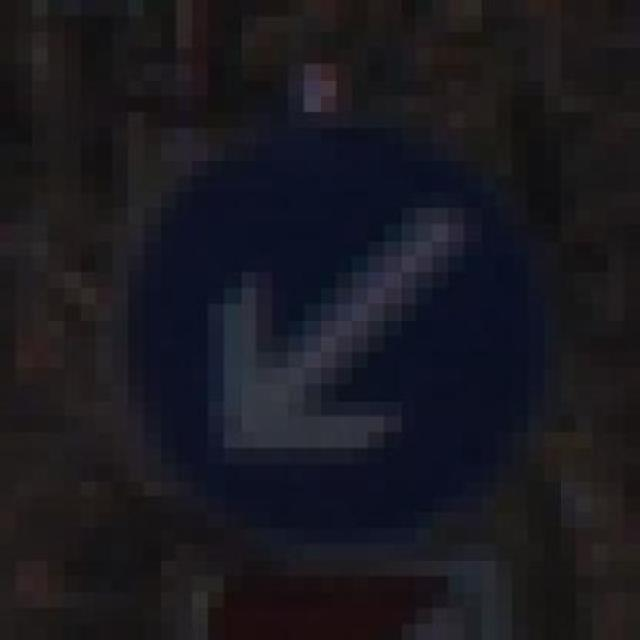Keep-Left: (96, 112, 576, 560)
